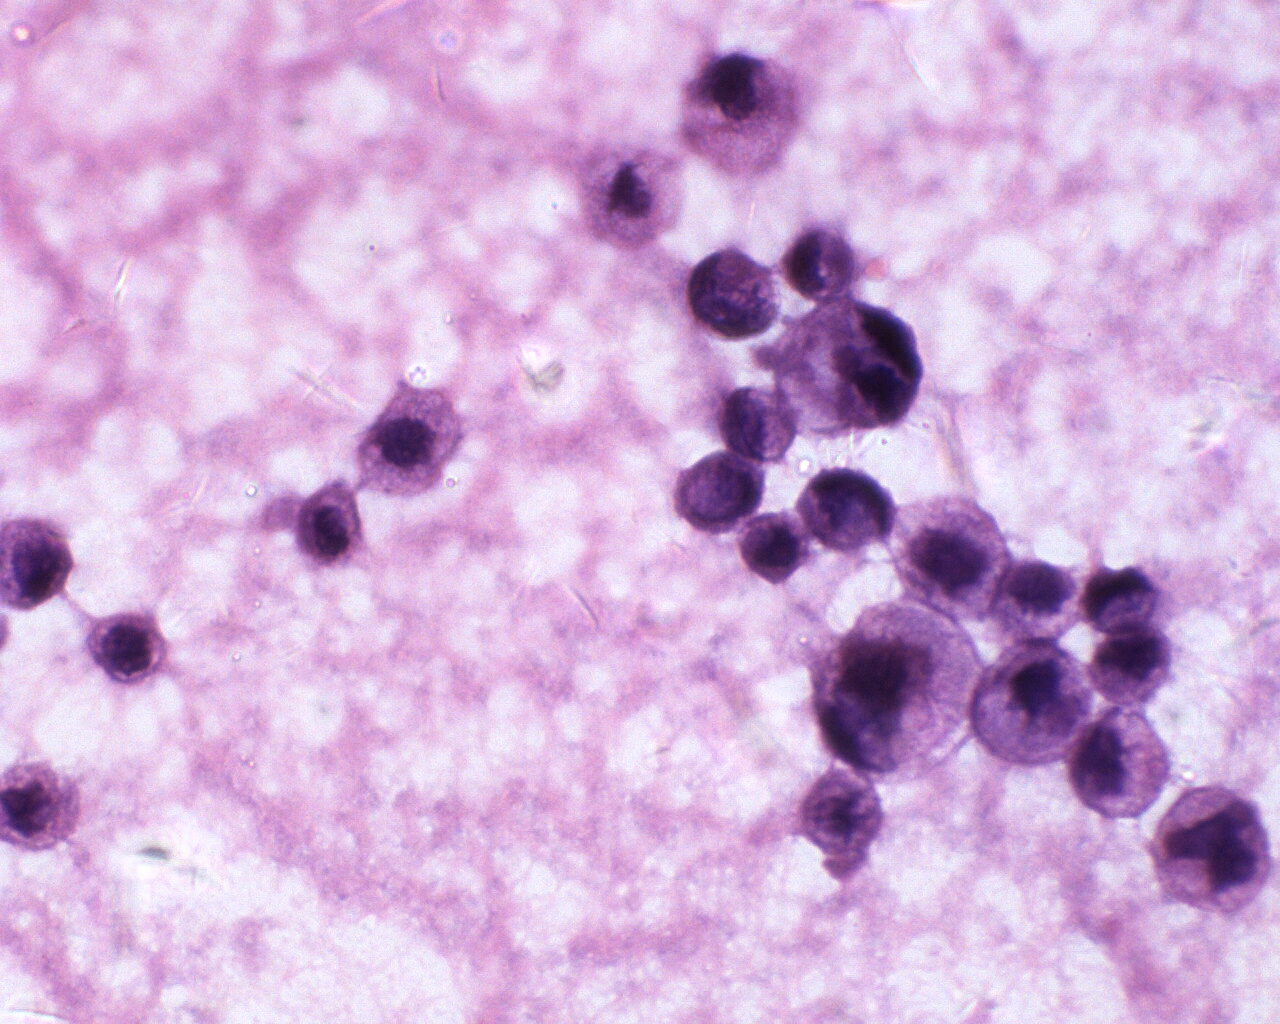ab: (1151, 781, 1271, 920), (1071, 708, 1177, 831), (686, 241, 783, 345), (798, 465, 897, 554), (1091, 621, 1184, 714), (673, 451, 769, 539), (997, 554, 1083, 644), (85, 609, 172, 686), (290, 476, 364, 566), (740, 508, 812, 589)
histo: (680, 49, 807, 181)
